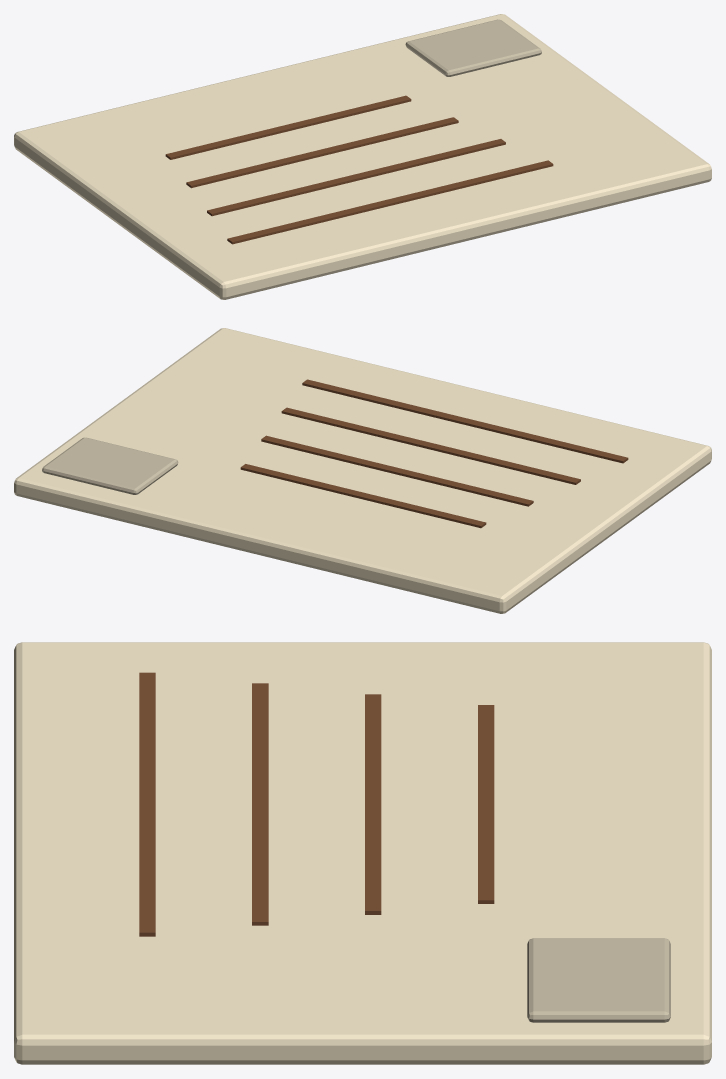
3 renders of one model, top to bottom at view 1: azimuth 30°, elevation 25°; view 2: azimuth 150°, elevation 25°; view 3: azimuth 270°, elevation 25°, orthographic. The views are drawn at different scales.
Visible parts, largest first — view 1: loft_paper, loft_wood_dark, loft_linen_shade; view 2: loft_paper, loft_wood_dark, loft_linen_shade; view 3: loft_paper, loft_wood_dark, loft_linen_shade.
Boxes of the visible parts, bbox=[...] form: loft_paper: bbox=[14, 14, 711, 299]; loft_wood_dark: bbox=[165, 95, 553, 244]; loft_linen_shade: bbox=[405, 19, 541, 76]; loft_paper: bbox=[14, 328, 711, 613]; loft_wood_dark: bbox=[240, 379, 628, 528]; loft_linen_shade: bbox=[42, 437, 178, 494]; loft_paper: bbox=[14, 642, 711, 1064]; loft_wood_dark: bbox=[139, 672, 494, 936]; loft_linen_shade: bbox=[527, 938, 670, 1022].
Bounding box in the file's own units: 0.46 × 0.022 × 0.34.
